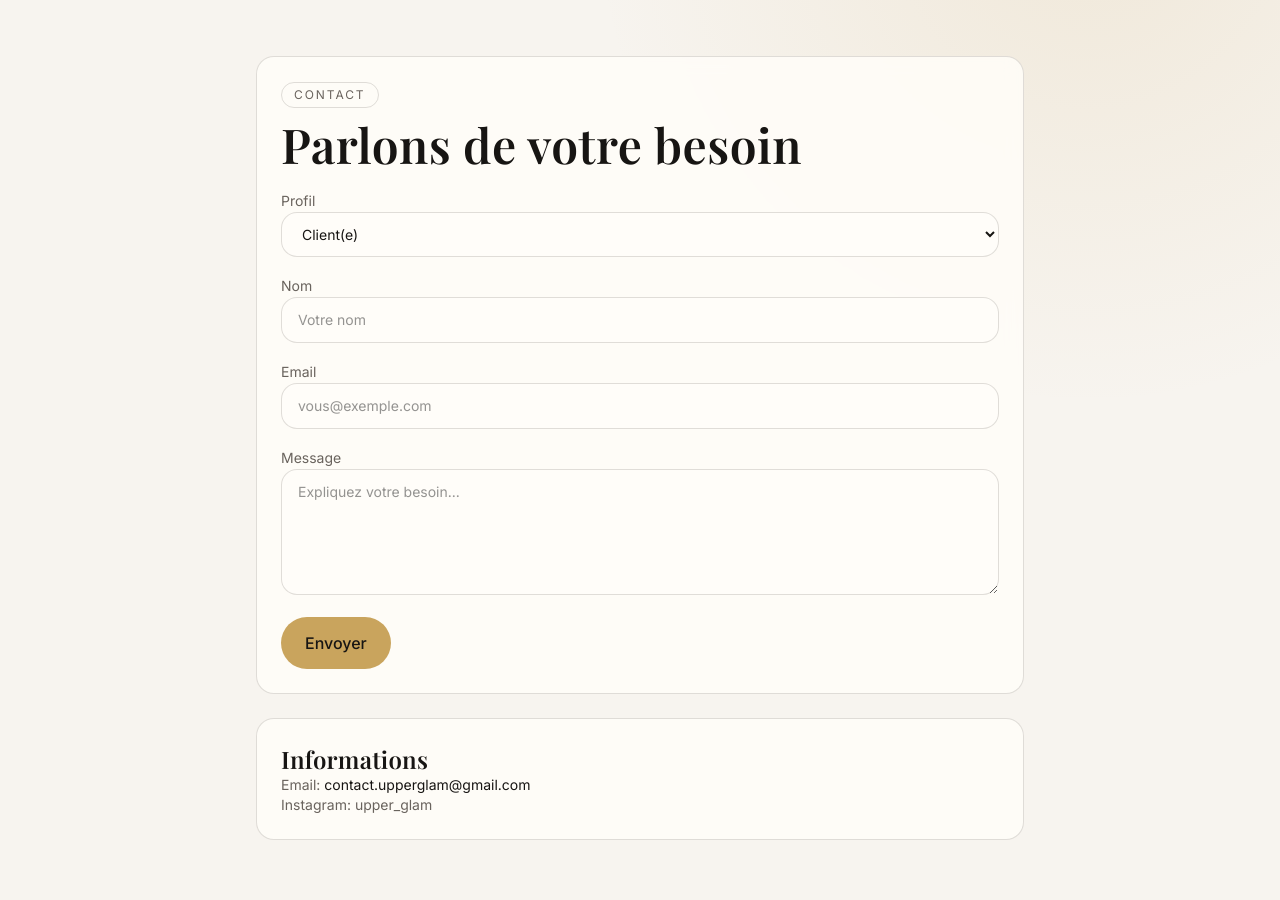
Test: ContactPage critical flow › submits contact form and displays confirmation state
Select "Professionnel(le)" in the dropdown labelled "Profil": point(640, 234) x1=281 y1=212 x2=999 y2=257
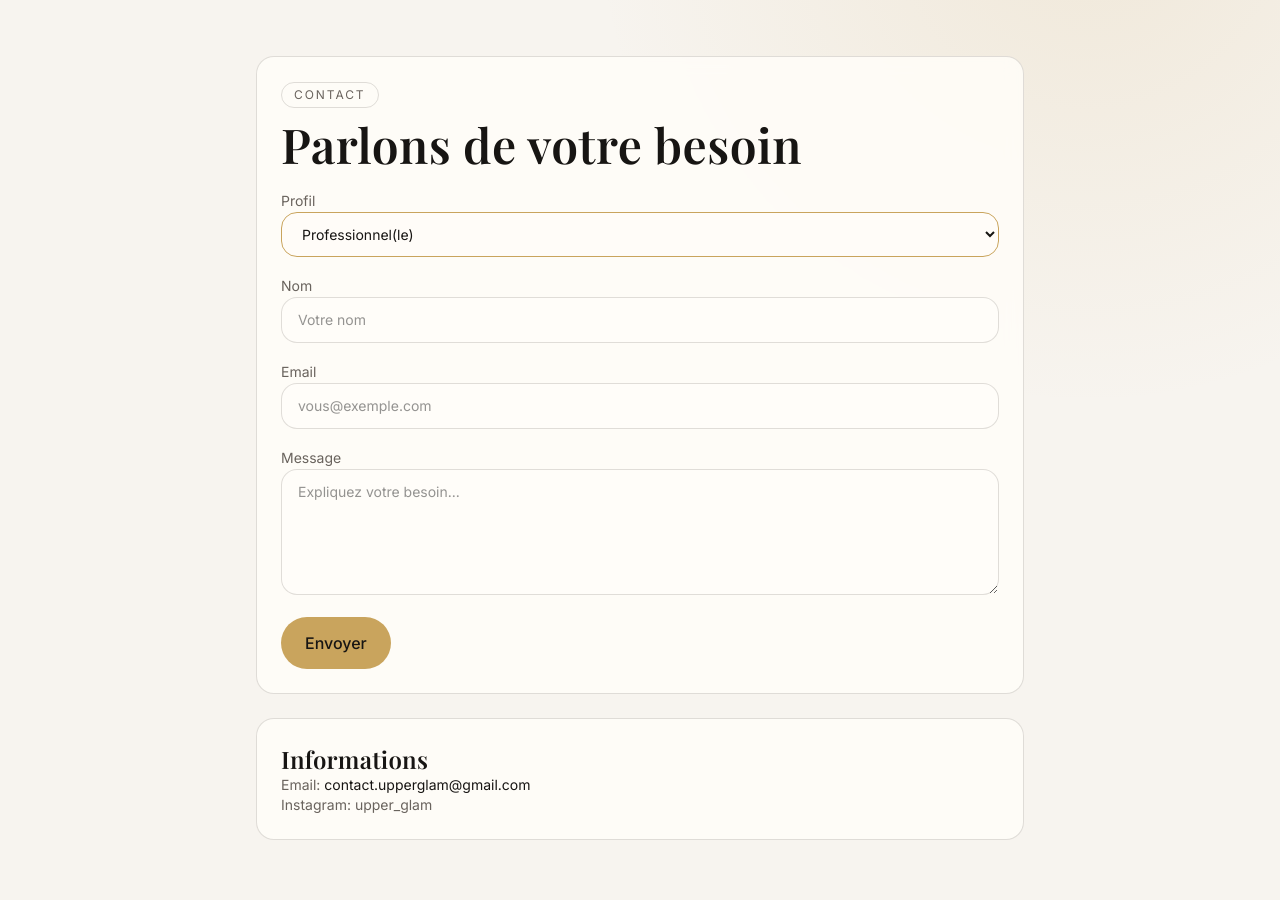
In the field labelled "Nom": point(640, 320) x1=281 y1=297 x2=999 y2=343, type "Lea Martin"
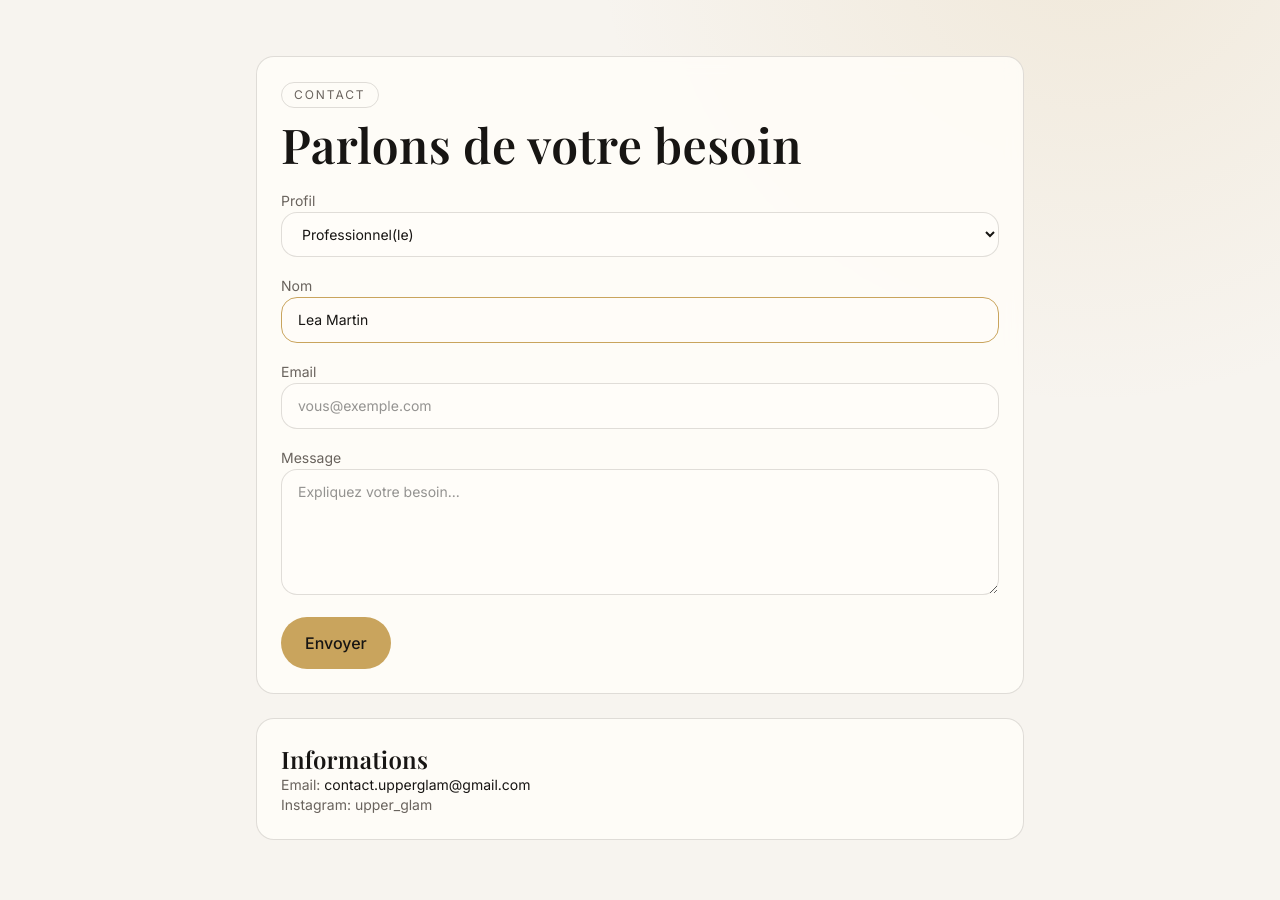
In the field labelled "Email": point(640, 406) x1=281 y1=383 x2=999 y2=429, type "lea@example.com"
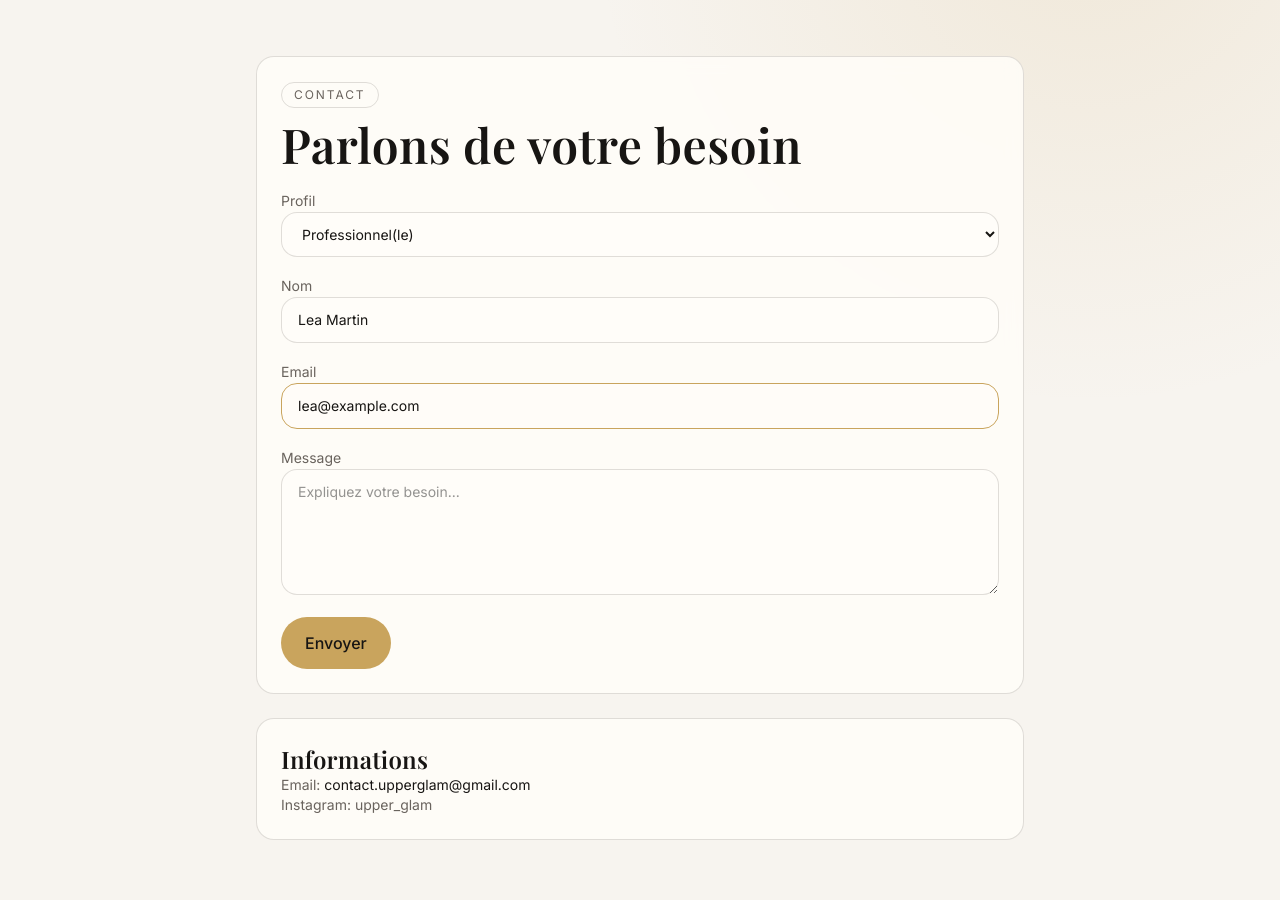
In the text box labelled "Message": point(640, 532) x1=281 y1=469 x2=999 y2=595, type "Bonjour, je souhaite plus d informations."
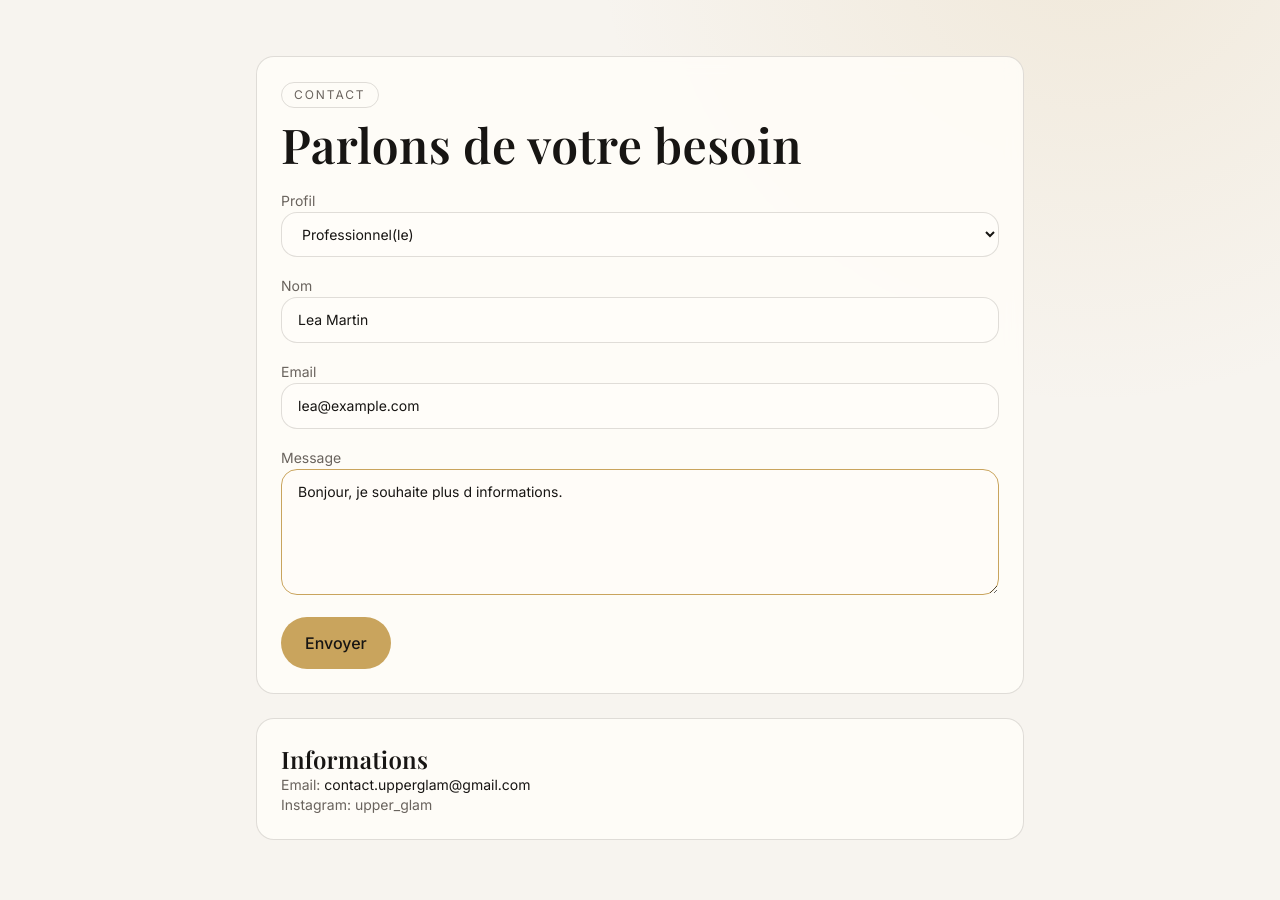
Click the button "Envoyer": point(336, 643) x1=281 y1=617 x2=391 y2=669
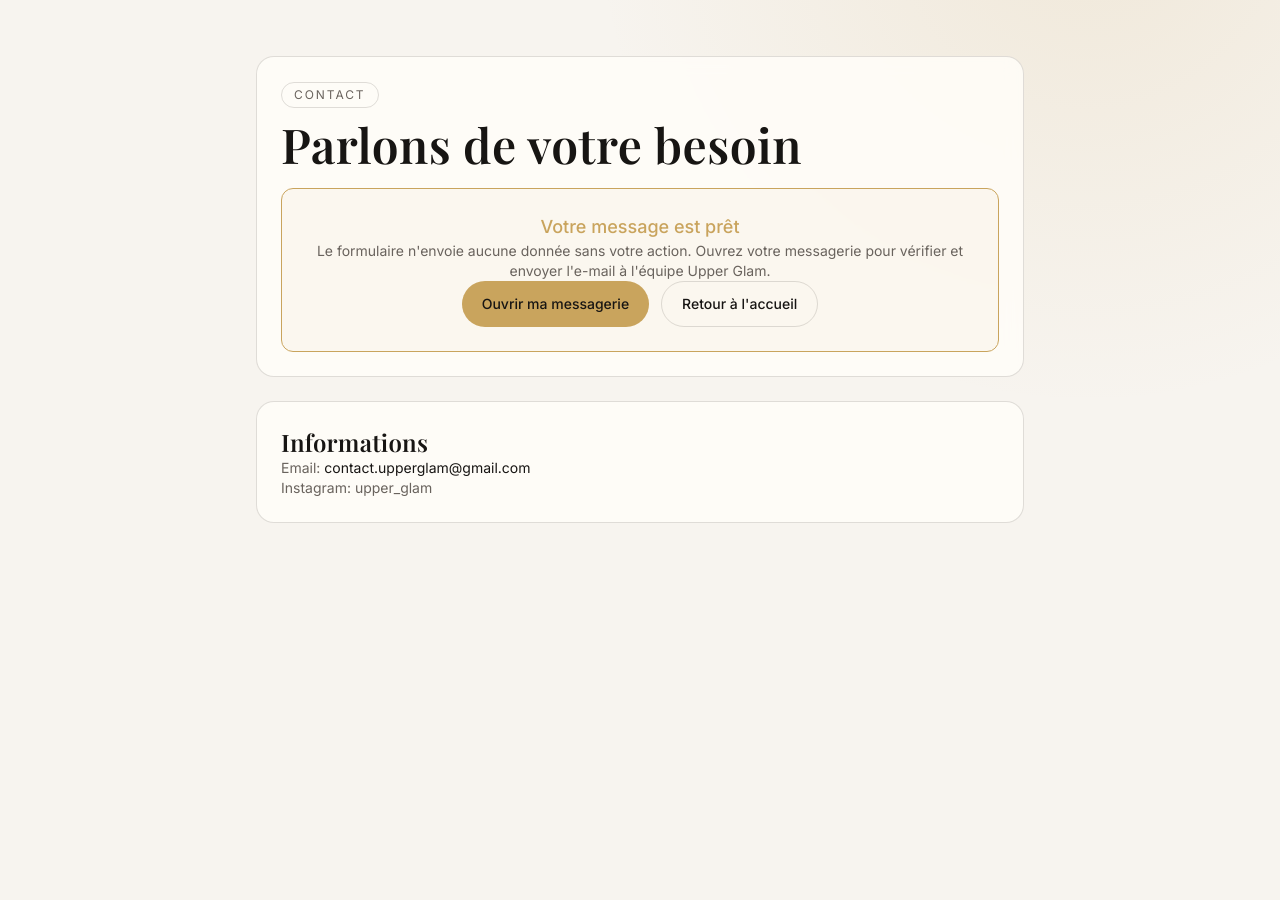
Expected: the text "Votre message est prêt" is shown, x1=540 y1=216 x2=740 y2=237
